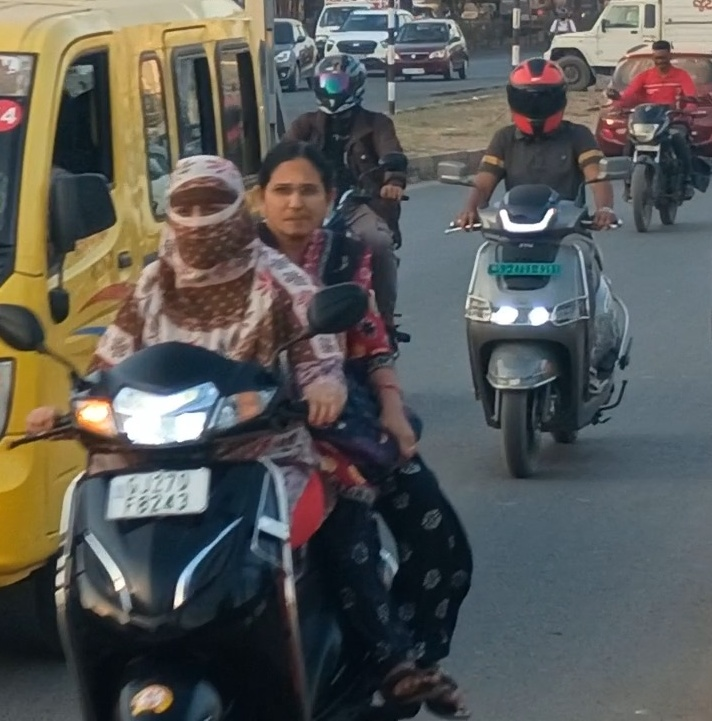BikeWithRider: (0, 131, 486, 721), (430, 51, 642, 484), (598, 34, 712, 237)
Helmet: (495, 52, 577, 140), (302, 46, 376, 121)
NoHelmet: (147, 148, 267, 287), (249, 135, 340, 245), (645, 36, 679, 72)
